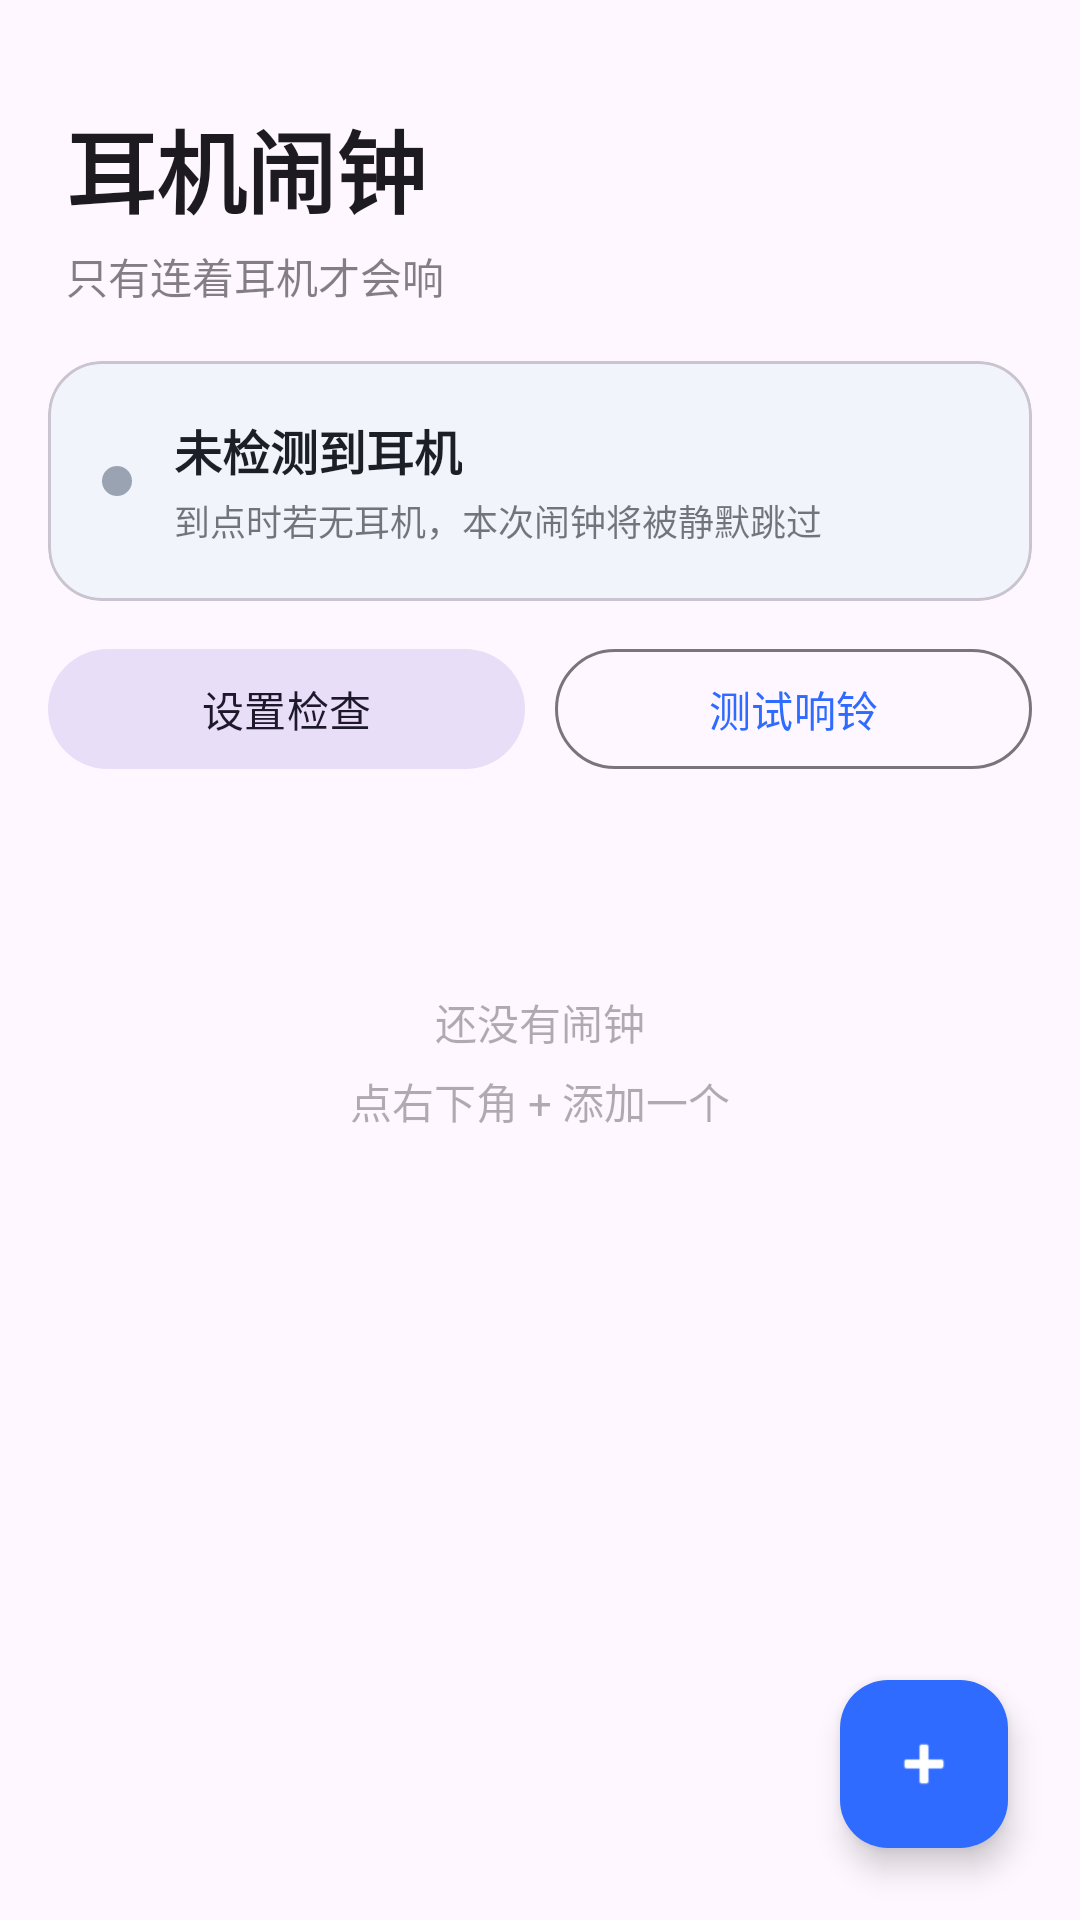

Icons on this 1080x1920 Android screen, each with the point to tap as [x,y]:
添加闹钟: [924,1764]
